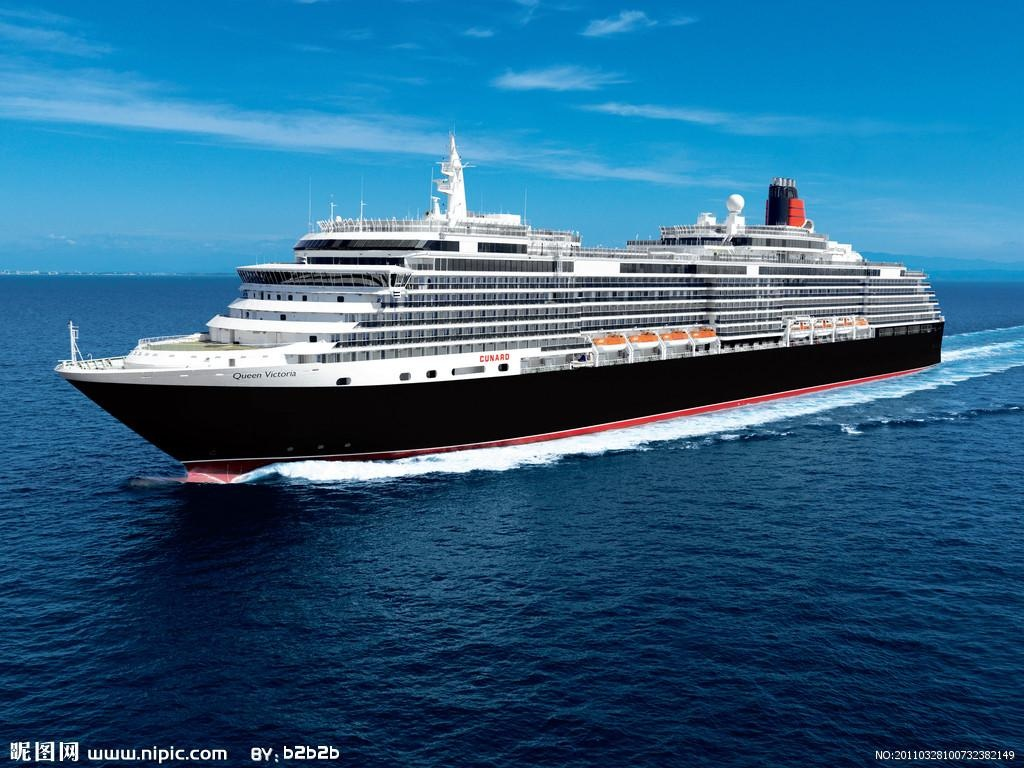youlun: (37, 148, 939, 490)
